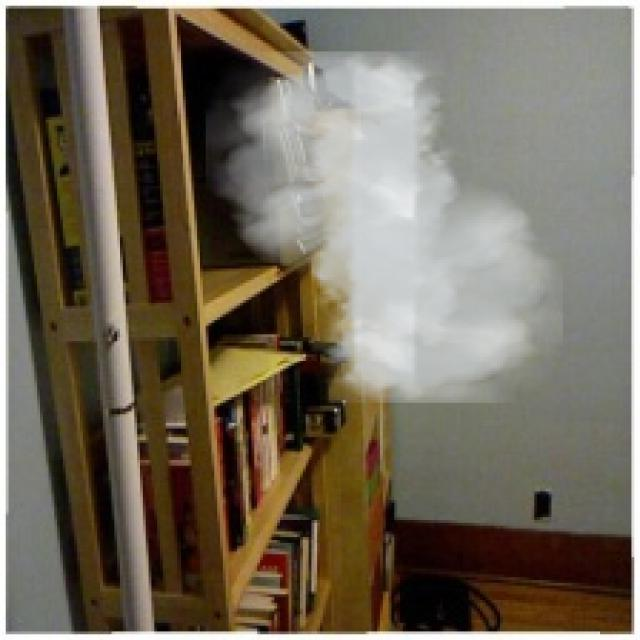Smoke: (206, 51, 563, 403)
